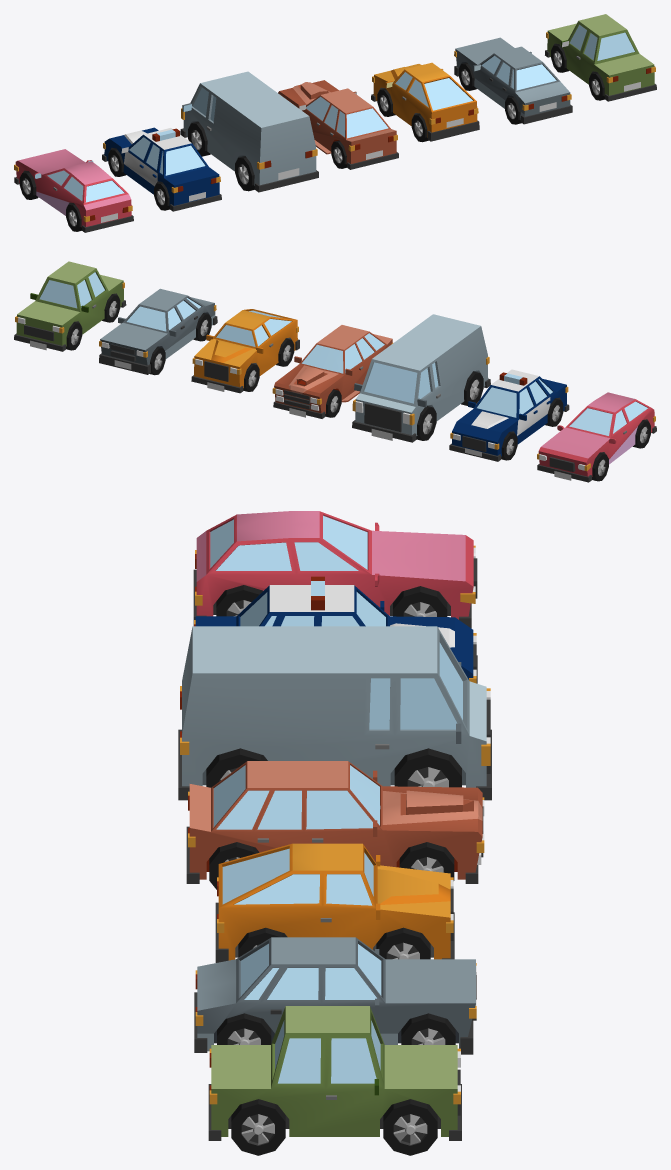
File: Car_Pack_01.fbx
3 renders of one model, top to bottom at view 1: azimuth 30°, elevation 25°; view 2: azimuth 150°, elevation 25°; view 3: azimuth 270°, elevation 25°, orthographic. The views are drawn at different scales.
Visible parts, largest first — view 1: Body_5, Body_6, Body_2, Body_4, Body, Body_7, Body_3, Wheel_17, Wheel_19, Fwheel_L, Wheel_7, Wheel_3 (+8 smaller); view 2: Body_5, Body_6, Body_4, Body_7, Body, Body_2, Body_3, Wheel_19, Wheel_17, Fwheel_L, Wheels_7, Wheel_9 (+8 smaller); view 3: Body_5, Body, Body_4, Body_3, Body_7, Body_2, Body_6, Wheel_4, Wheel_2, Wheel_20, Wheel_8, Wheel_6 (+5 smaller).
Boxes of the visible parts, x1,y1,x2,y2 form: Body_5: (180,71,318,192); Body_6: (102,127,221,211); Body_2: (454,37,572,124); Body_4: (278,80,398,169); Body: (545,14,656,101); Body_7: (14,149,133,232); Body_3: (371,62,479,141); Wheel_17: (235,156,254,191); Wheel_19: (188,121,210,156); Fwheel_L: (19,171,38,199); Wheel_7: (458,62,476,90); Wheel_3: (551,44,569,72); Body_5: (352,314,490,442); Body_6: (449,369,569,461); Body_4: (272,325,392,418); Body_7: (537,392,656,482); Body: (14,261,126,351); Body_2: (99,288,217,374); Body_3: (191,309,299,393); Wheel_19: (416,406,436,440); Wheel_17: (461,371,483,405); Fwheel_L: (592,452,608,481); Wheels_7: (545,398,563,426); Wheel_9: (276,338,294,366); Body_5: (178,626,491,800); Body: (208,1006,461,1140); Body_4: (186,761,484,883); Body_3: (215,843,454,962); Body_7: (193,511,477,628); Body_2: (194,937,476,1054); Body_6: (194,576,477,683); Wheel_4: (383,1099,437,1155); Wheel_2: (231,1099,285,1155); Wheel_20: (394,748,461,787); Wheel_8: (401,1013,455,1044); Wheel_6: (217,1013,271,1044).
Size of the model in its own units: 10544 by 1203 by 2453.
1 material, 1 textured.
